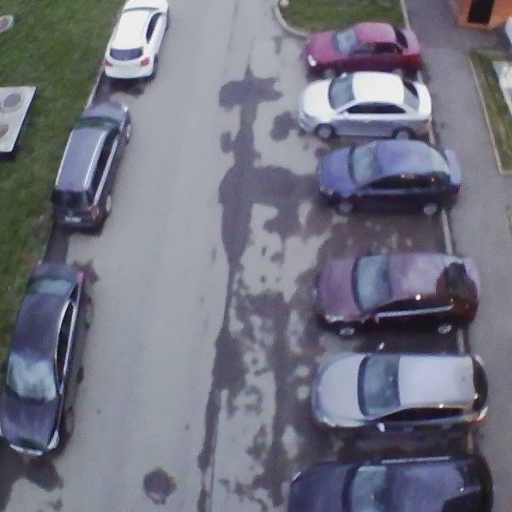Car: (312, 344, 489, 444), (0, 264, 85, 452), (315, 253, 480, 334), (314, 138, 461, 220), (288, 457, 494, 511), (52, 101, 130, 234), (299, 73, 431, 135), (302, 21, 421, 75), (103, 0, 165, 84)
